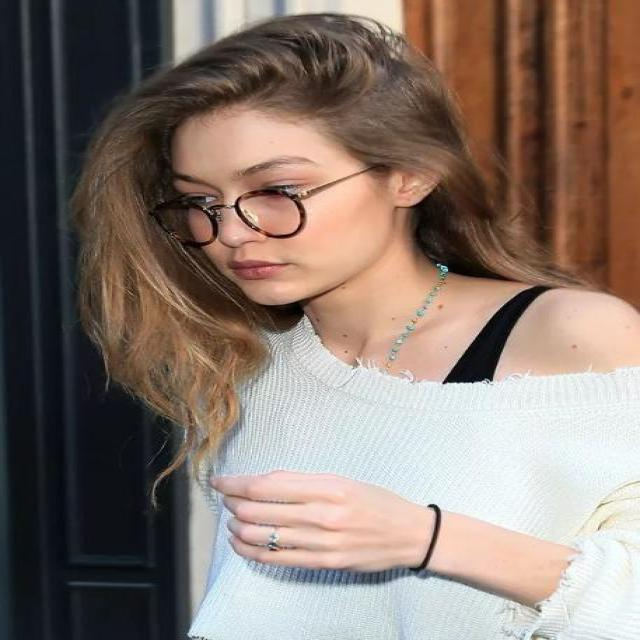glasses: (148, 166, 381, 247)
